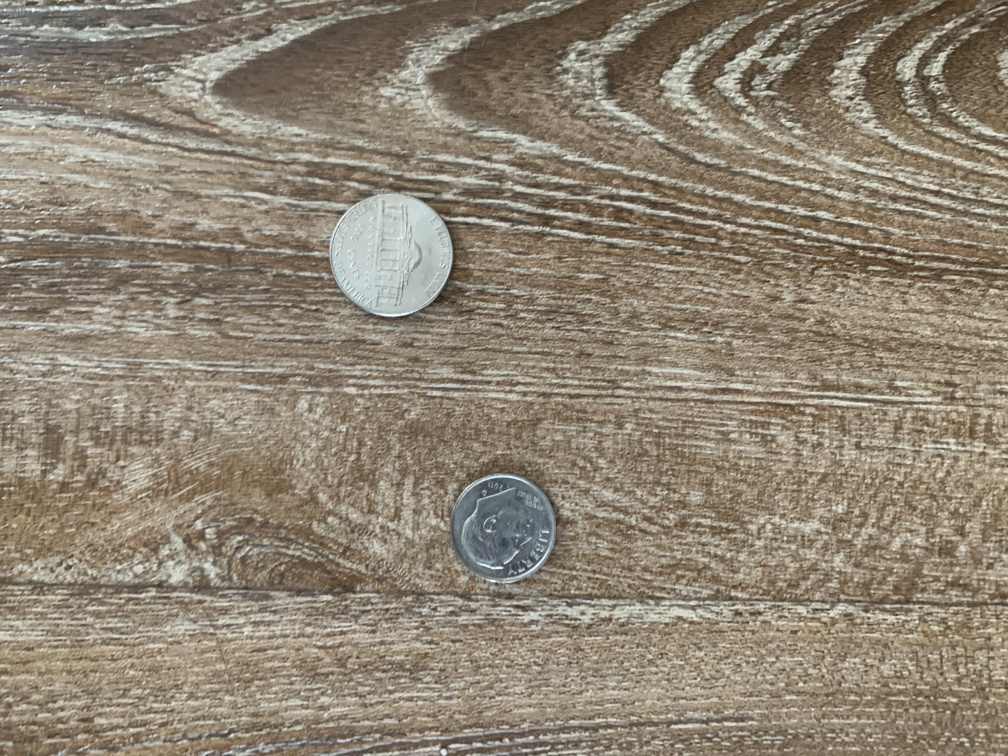dime: (446, 469, 563, 587)
nickel: (323, 189, 457, 320)
